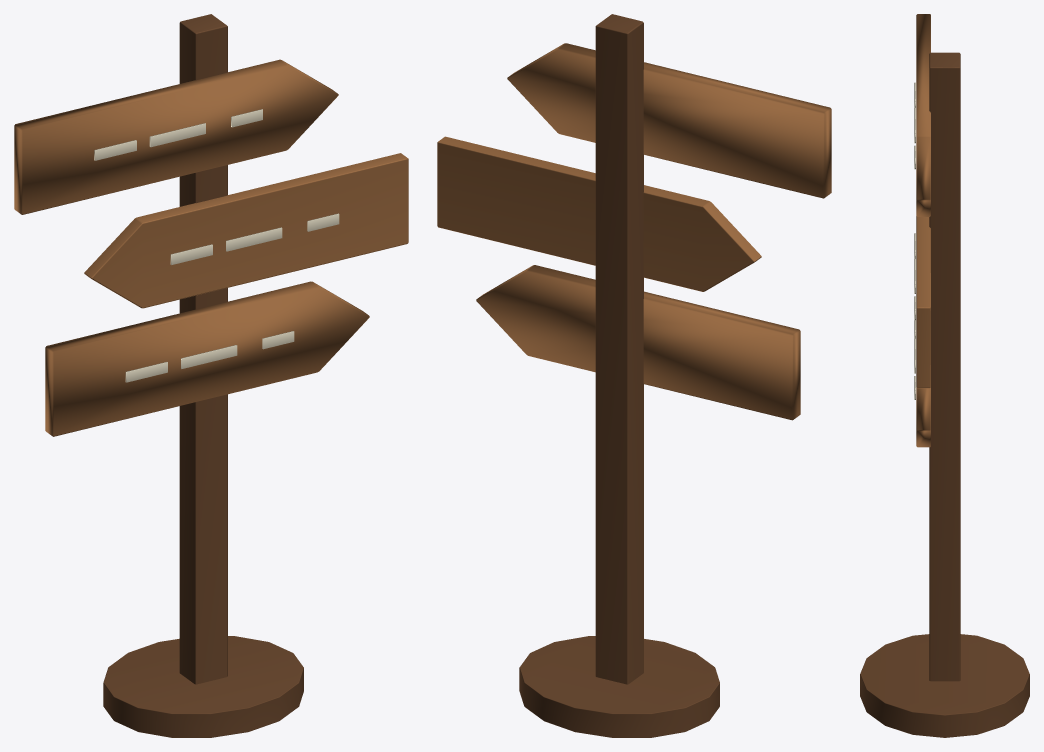
File: S061_direction_signpost_rebuilt.glb
The picture shows the model from 3 angles, left to right: view 1: azimuth 30°, elevation 25°; view 2: azimuth 150°, elevation 25°; view 3: azimuth 270°, elevation 25°; orthographic projection. The views are drawn at different scales.
Visible parts, largest first — view 1: Oiled_warm_oak.001, Oak_end_and_edge.001, Warm_ivory.001; view 2: Oiled_warm_oak.001, Oak_end_and_edge.001; view 3: Oak_end_and_edge.001, Oiled_warm_oak.001, Warm_ivory.001.
Boxes of the visible parts, left/top/right/bottom form: Oiled_warm_oak.001: left=14, top=59, right=408, bottom=436; Oak_end_and_edge.001: left=103, top=14, right=303, bottom=737; Warm_ivory.001: left=94, top=109, right=339, bottom=382; Oiled_warm_oak.001: left=437, top=43, right=831, bottom=420; Oak_end_and_edge.001: left=519, top=14, right=719, bottom=737; Oak_end_and_edge.001: left=860, top=52, right=1029, bottom=737; Oiled_warm_oak.001: left=916, top=14, right=930, bottom=447; Warm_ivory.001: left=914, top=82, right=915, bottom=399.
Bounding box in the file's own units: 1.44 × 2.4 × 0.58.
